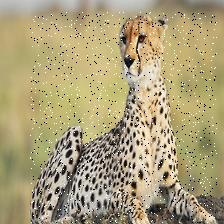Cheetha: (31, 13, 218, 224)
